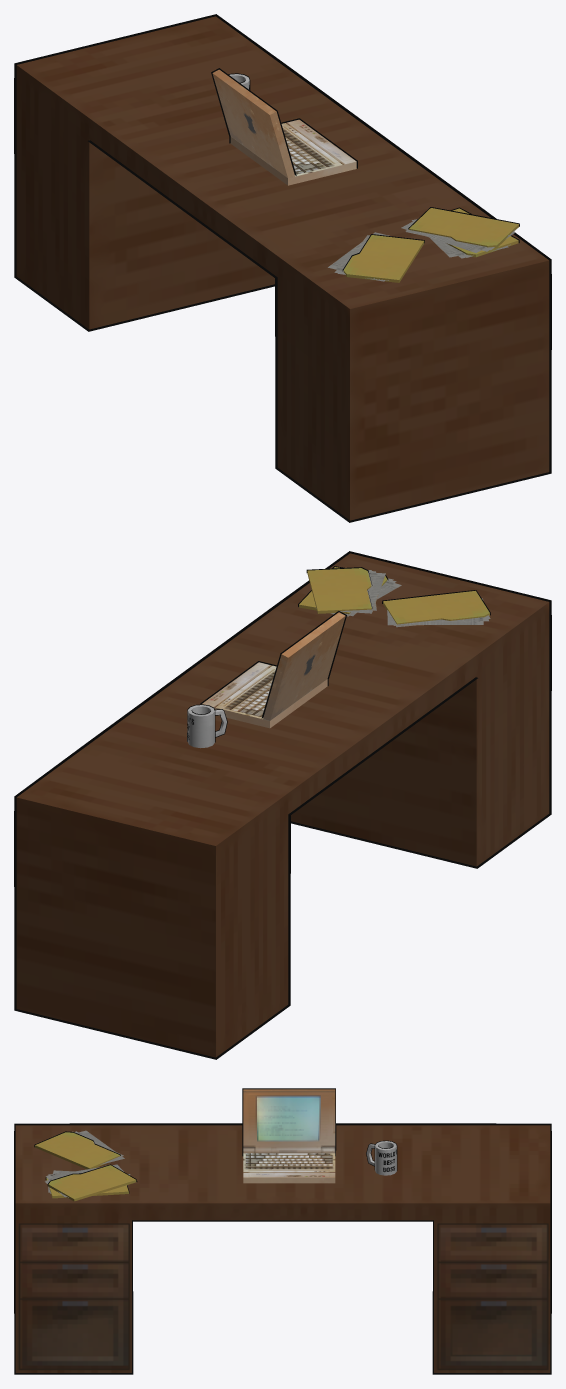
Rendered from Mesa chefe.glb.
3 views of the same model, one above another, from view 1: azimuth 30°, elevation 25°; view 2: azimuth 150°, elevation 25°; view 3: azimuth 270°, elevation 25° (orthographic). The views are drawn at different scales.
Visible parts, largest first — view 1: Mesa chefe; view 2: Mesa chefe; view 3: Mesa chefe.
Part boxes in pixels (x1,y1,x2,y2): Mesa chefe: (14, 14, 551, 522); Mesa chefe: (14, 551, 551, 1059); Mesa chefe: (14, 1088, 551, 1374).
Bounding box in the file's own units: 1.13 × 1.51 × 3.16.
3 materials, 2 textured.
